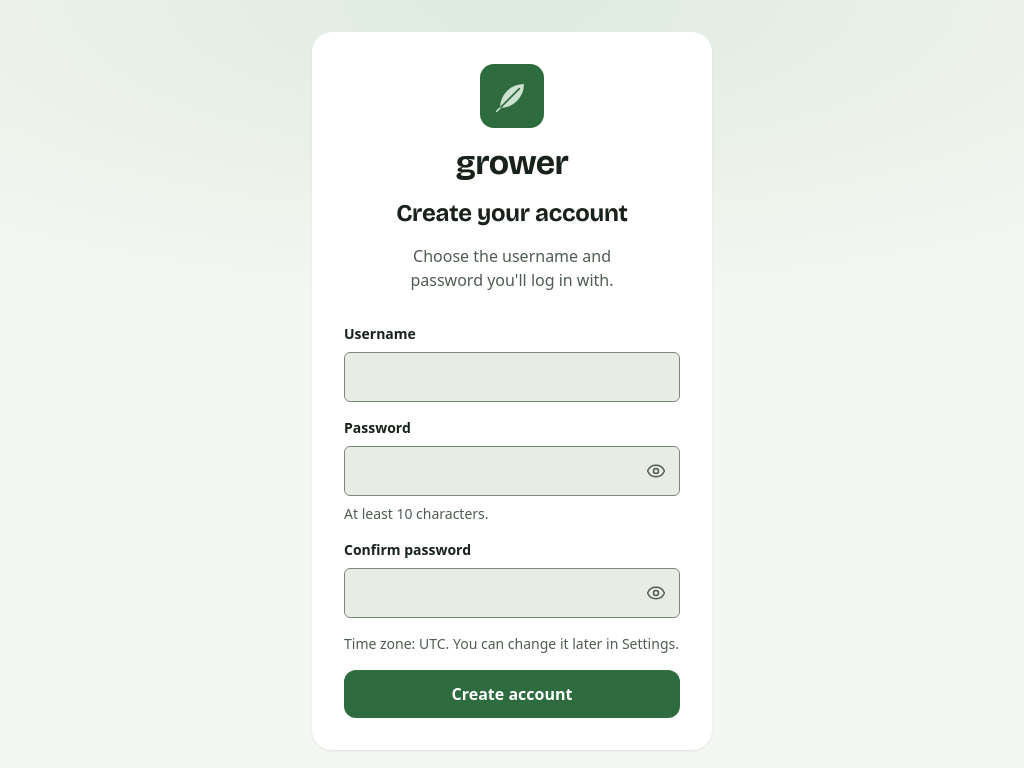
Test case: Setup › shows the server's message when the window closed while filling in the form
Type "fern" into the field labelled "Username".
click(512, 377); type("fern")  # box [344,352,680,402]
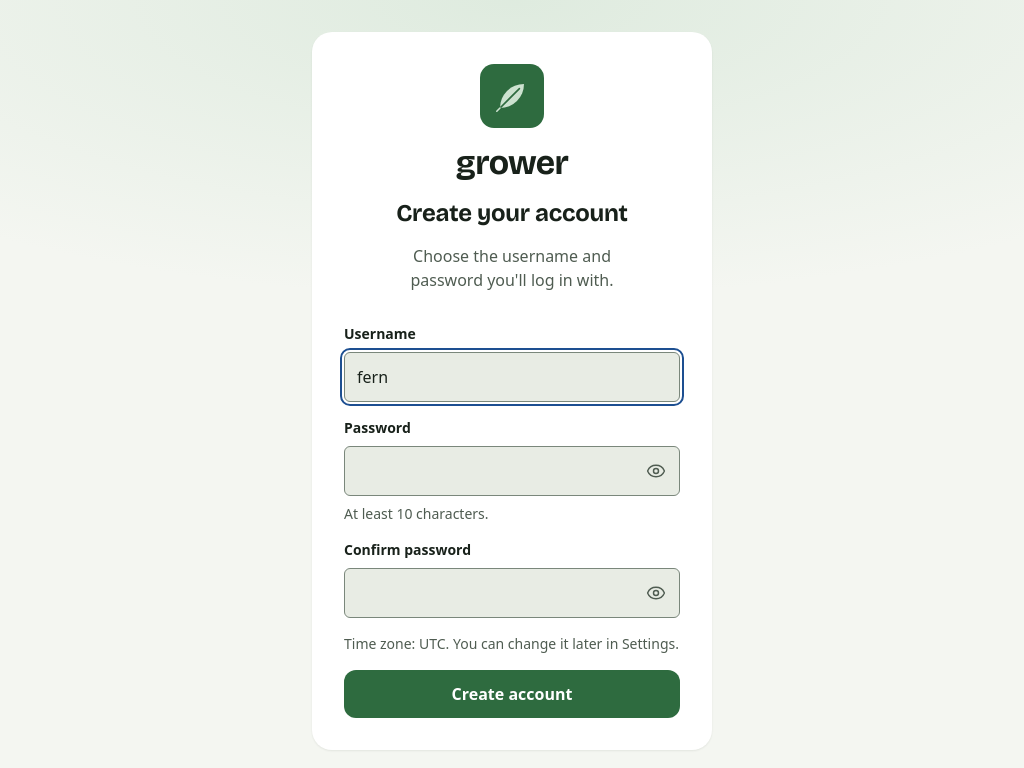
Type "correct-horse" into the password field labelled "Password".
click(512, 471); type("correct-horse")  # box [344,446,680,496]
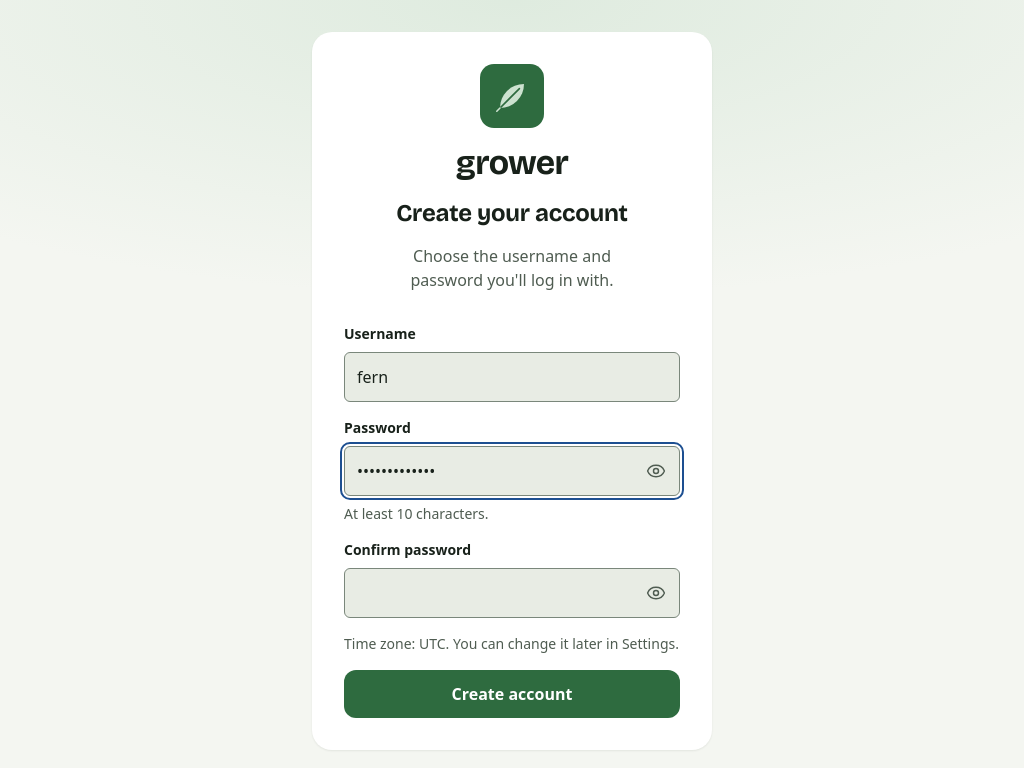
Type "correct-horse" into the password field labelled "Confirm password".
click(512, 593); type("correct-horse")  # box [344,568,680,618]
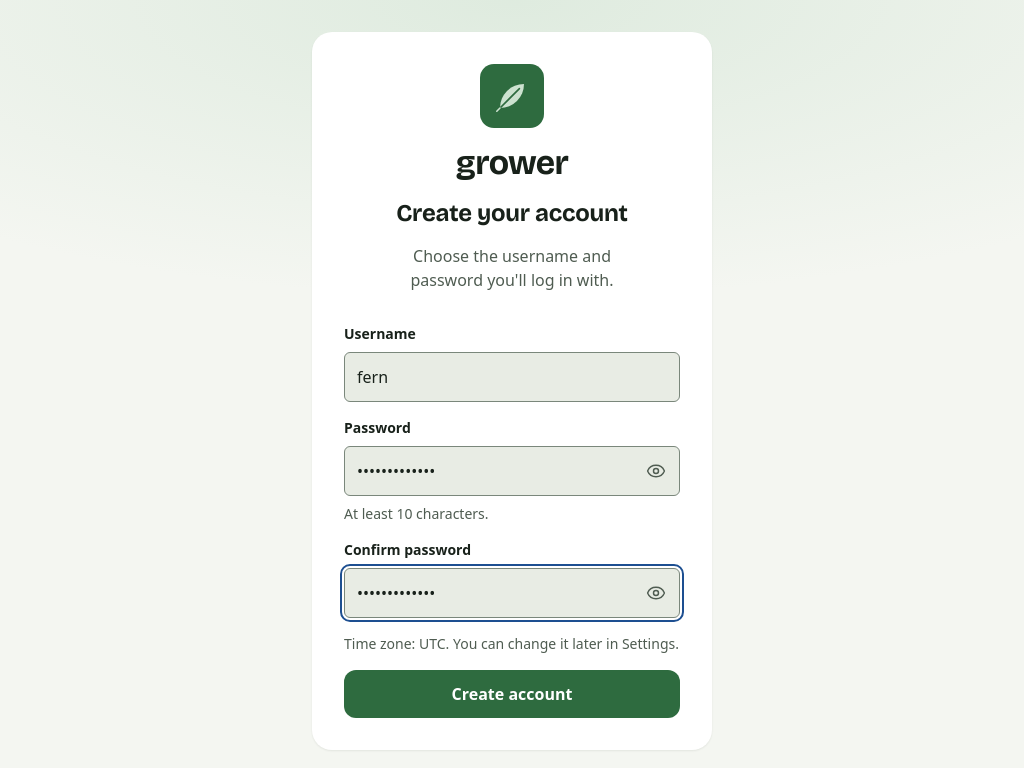
Click the button "Create account".
click(512, 694)  # box [344,670,680,718]
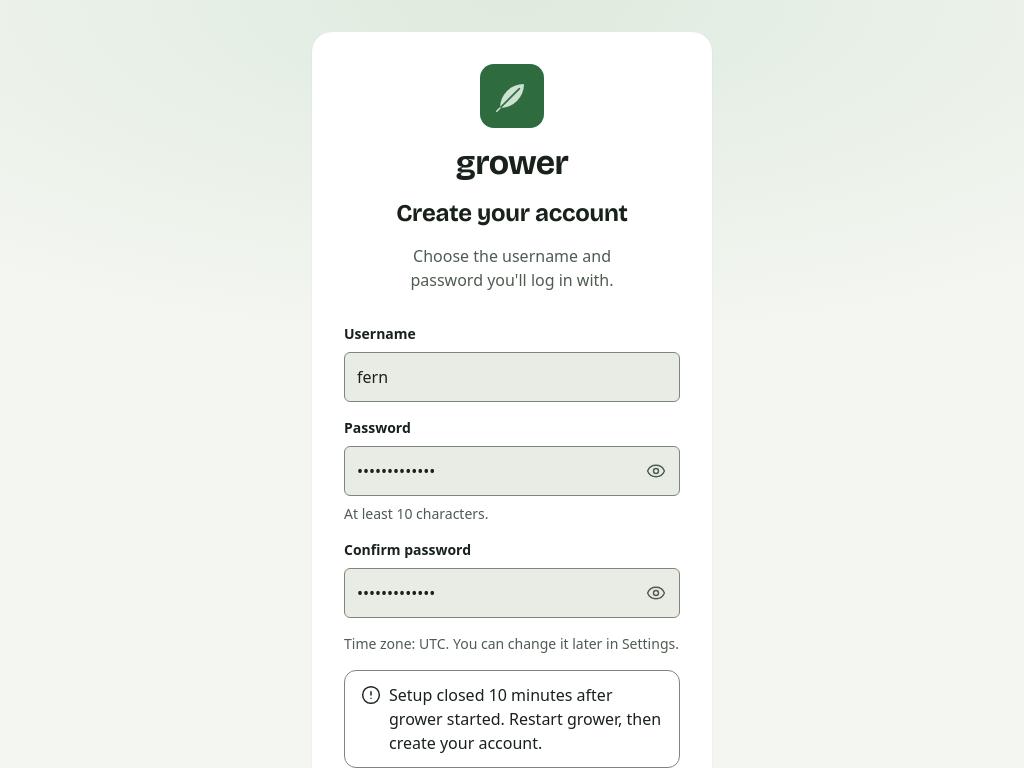
Now the message shows "Setup closed 10 minutes after grower started. Restart grower, then create your account.", box [389,684,661,754]
